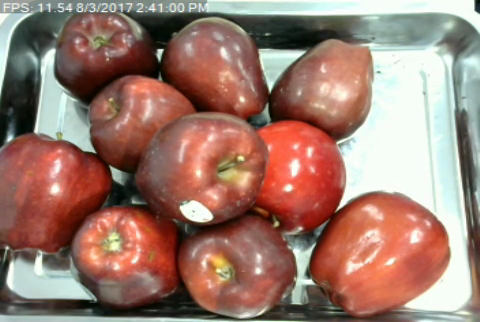Apple: (305, 188, 453, 322), (133, 108, 267, 228), (0, 129, 114, 259), (174, 207, 300, 321), (67, 199, 184, 312), (160, 13, 271, 121), (265, 36, 375, 142), (251, 117, 347, 235), (83, 73, 195, 174), (52, 6, 160, 104)
